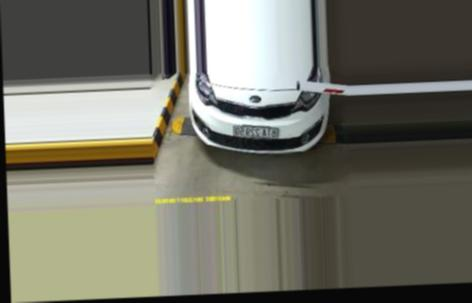License_Plate: (232, 122, 283, 139)
